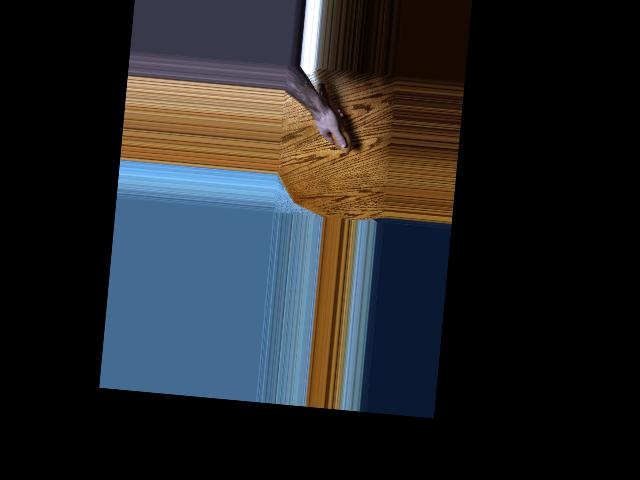sweet_potato: (310, 70, 358, 154)
